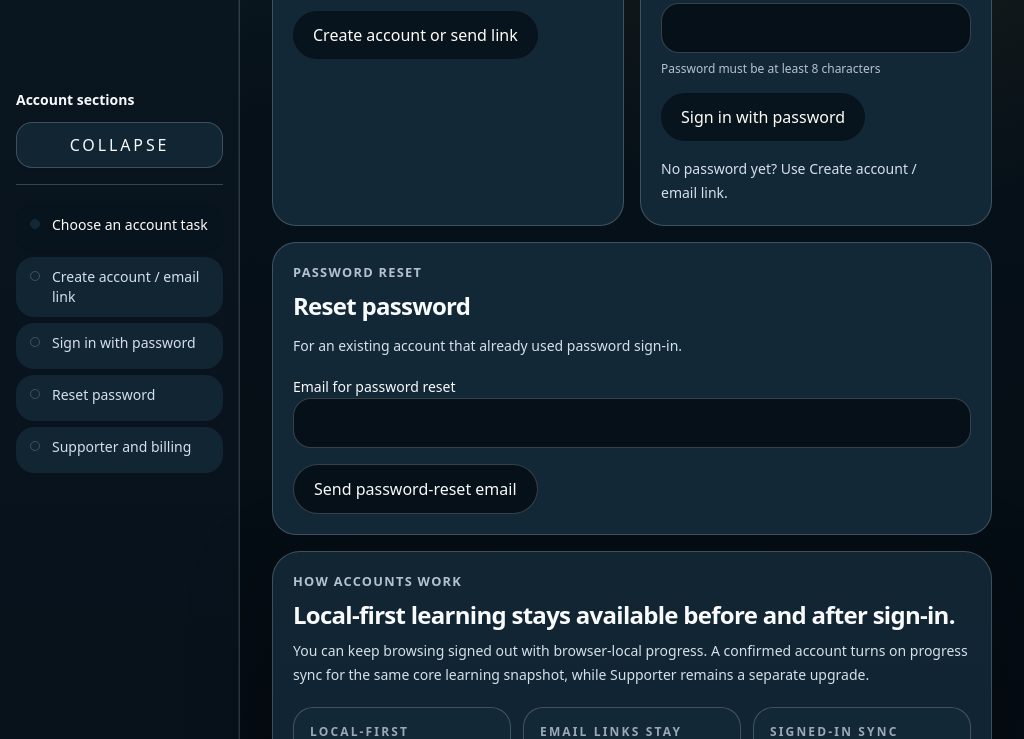
it: AccountPagePanel › shows the same inline validation before sending a password-reset email
(page scrolled)
Type "still-not-an-email" into the field labelled "Email for password reset" at [632, 423], box [293,398,971,448]
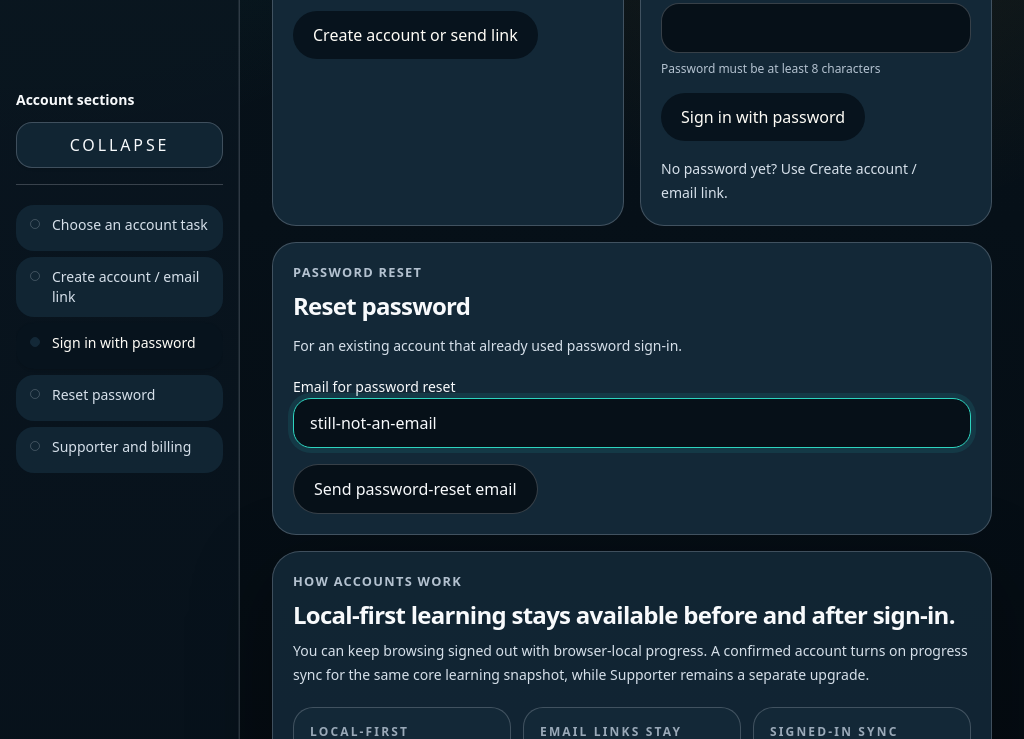
Click the button "Send password-reset email" at [415, 489], box [293,464,538,514]
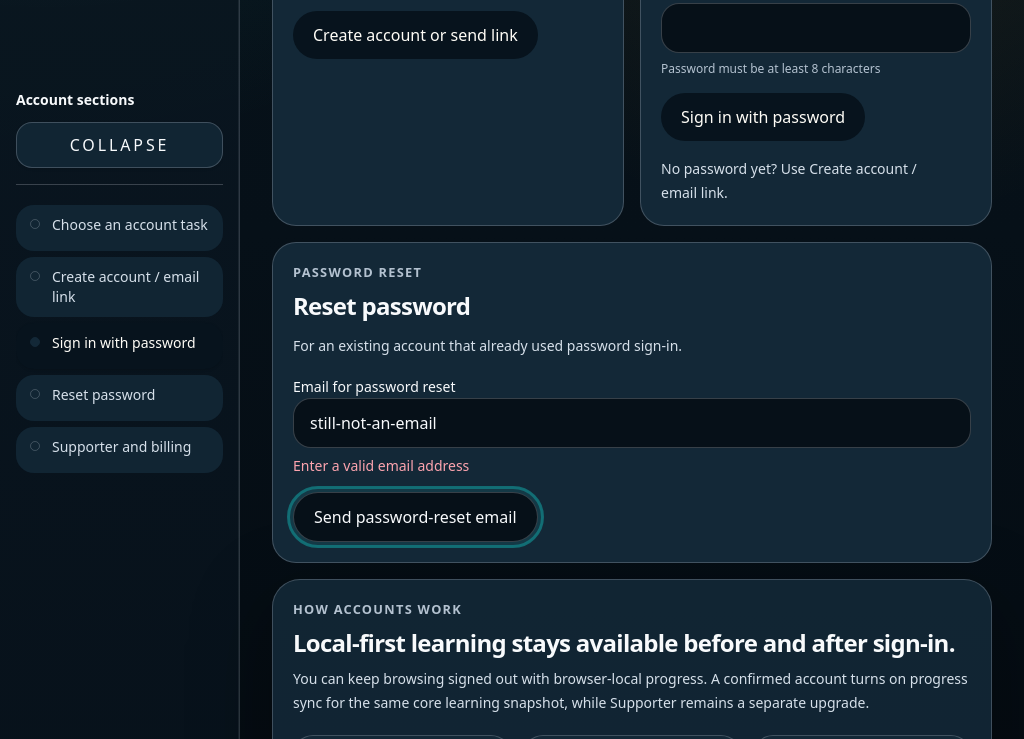
Now the text "Enter a valid email address" is shown, box [293,456,469,475]
